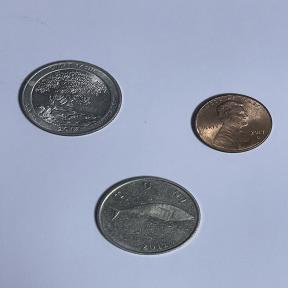coin: (90, 173, 206, 259), (12, 56, 126, 142), (188, 91, 276, 155)
